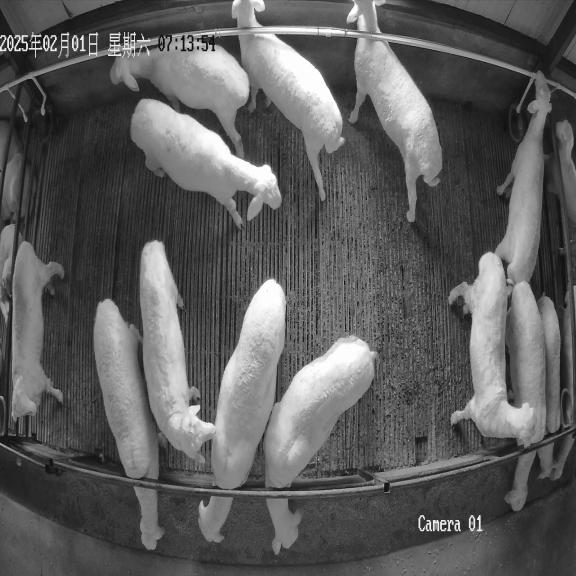eating: (264, 337, 375, 553), (199, 279, 286, 542), (93, 299, 164, 550), (505, 281, 546, 511), (537, 296, 561, 478)
stand: (231, 0, 344, 200), (346, 0, 442, 222), (130, 99, 281, 228), (140, 240, 215, 463), (449, 252, 535, 446), (110, 39, 250, 156), (495, 72, 551, 284), (11, 242, 64, 421)
